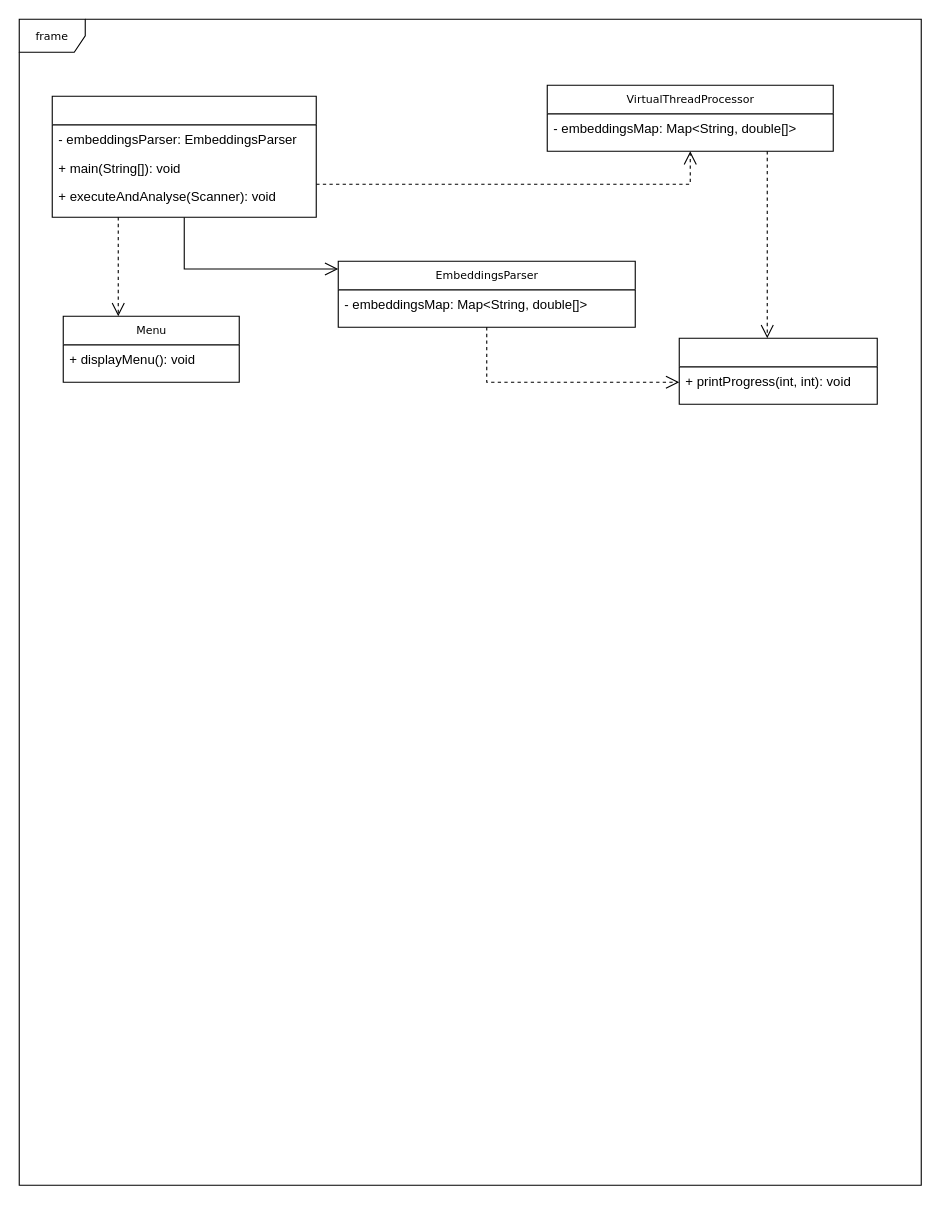
Image size: 941x1205. Some labels were removed from this diagram. Here are the shapes that lost their labels. From the top down, the box of each, then its label:
(51, 95, 316, 217): Runner
(678, 337, 877, 404): ProgressReporter
